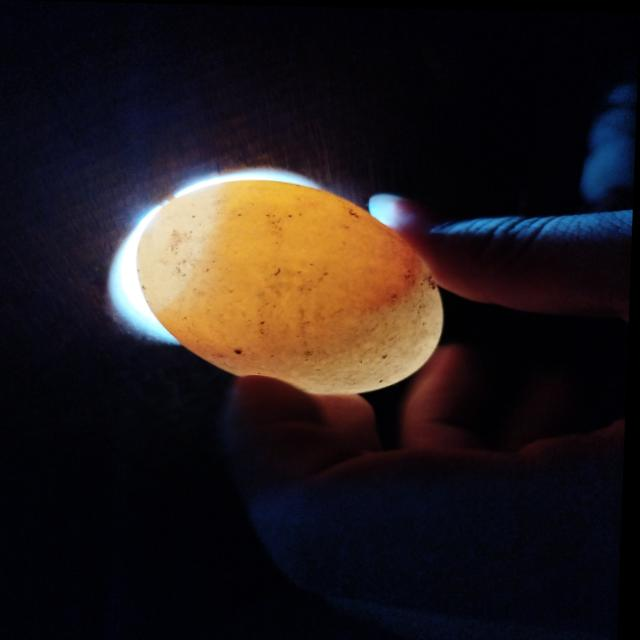Camara de Ar: (137, 190, 219, 311)
Gema Quebrada: (368, 234, 424, 306)
